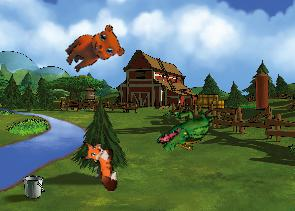bear: (59, 17, 129, 85)
crocodile: (154, 95, 219, 164)
fox: (79, 138, 119, 193)
